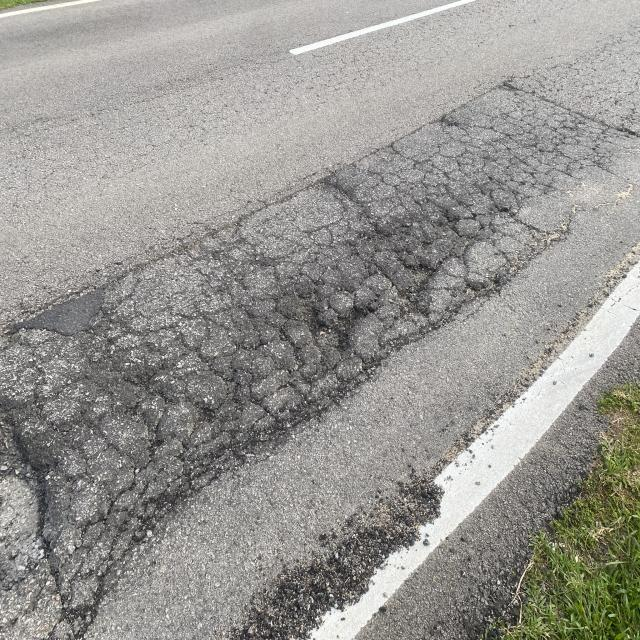Pothole: (214, 253, 442, 402), (8, 370, 121, 620)
